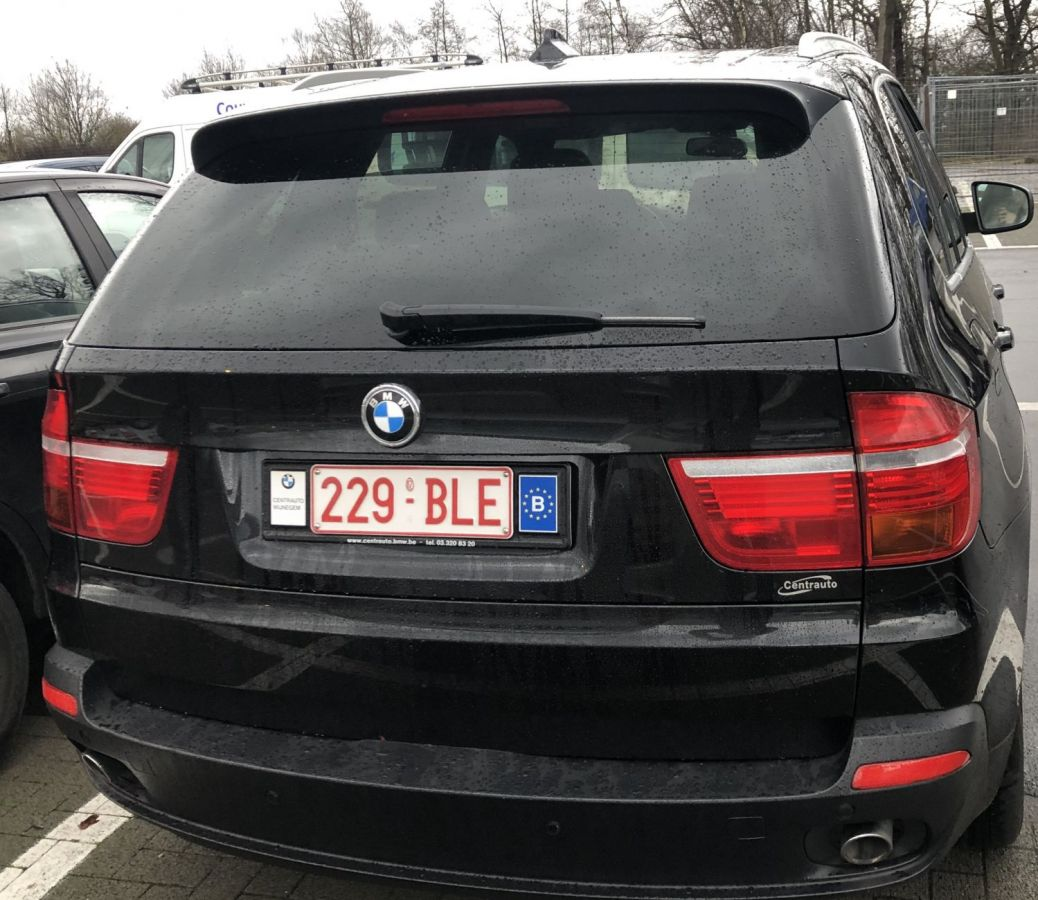licenseplate: (311, 464, 513, 535)
